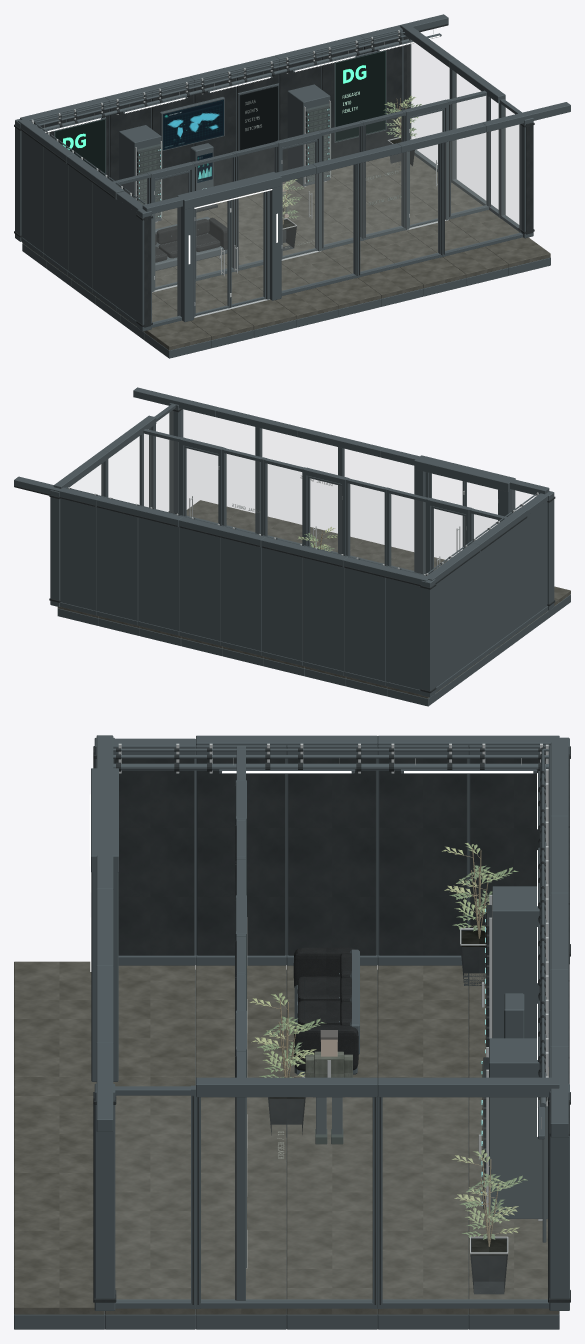
Rendered from CorridorRoom.glb.
3 renders of one model, top to bottom at view 1: azimuth 30°, elevation 25°; view 2: azimuth 150°, elevation 25°; view 3: azimuth 270°, elevation 25°, orthographic. The views are drawn at different scales.
Visible parts, largest first — view 1: EntrancePortal-156_BlackenedSteel__mesh, DGLogoPanel-177_DGIdentity__mesh, WallPanel-128_BlackenedSteel__mesh, WallPanel-130_BlackenedSteel__mesh, WallPanel-132_BlackenedSteel__mesh, WallPanel-134_BlackenedSteel__mesh, WallPanel-126_BlackenedSteel__mesh, WallDisplay-173_Screen_map__screen_display, SloganPanel-175_Slogan__mesh, WallPanel-116_Powdercoat__mesh, ServerRack-176_BlackenedSteel__mesh, WallPanel-124_Powdercoat__mesh (+86 smaller); view 2: WallPanel-110_BlackenedSteel__mesh, WallPanel-118_BlackenedSteel__mesh, WallPanel-122_BlackenedSteel__mesh, WallPanel-116_BlackenedSteel__mesh, WallPanel-120_BlackenedSteel__mesh, WallPanel-112_BlackenedSteel__mesh, WallPanel-114_BlackenedSteel__mesh, WallPanel-124_BlackenedSteel__mesh, WallPanel-108_BlackenedSteel__mesh, EntrancePortal-156_BlackenedSteel__mesh, WallPanel-132_BlackenedSteel__mesh, WallPanel-134_BlackenedSteel__mesh (+38 smaller); view 3: WallPanel-128_Powdercoat__mesh, WallPanel-130_Powdercoat__mesh, WallPanel-134_Powdercoat__mesh, WallPanel-132_Powdercoat__mesh, WallPanel-126_Powdercoat__mesh, ServerRack-176_BlackenedSteel__mesh, ServerRack-172_BlackenedSteel__mesh, Sofa-187_BlackLeather__mesh, EntrancePortal-156_BlackenedSteel__mesh, StructuralColumn-139_BlackenedSteel__mesh, FacadeHeader-169_BlackenedSteel__mesh, FacadeHeader-168_BlackenedSteel__mesh (+87 smaller).
Boxes of the visible parts, x1=… form: EntrancePortal-156_BlackenedSteel__mesh: x1=177, y1=172, x2=281, y2=321; DGLogoPanel-177_DGIdentity__mesh: x1=335, y1=50, x2=385, y2=141; WallPanel-128_BlackenedSteel__mesh: x1=43, y1=147, x2=68, y2=275; WallPanel-130_BlackenedSteel__mesh: x1=67, y1=165, x2=92, y2=292; WallPanel-132_BlackenedSteel__mesh: x1=92, y1=183, x2=124, y2=310; WallPanel-134_BlackenedSteel__mesh: x1=116, y1=191, x2=143, y2=325; WallPanel-126_BlackenedSteel__mesh: x1=21, y1=131, x2=43, y2=257; WallDisplay-173_Screen_map__screen_display: x1=163, y1=99, x2=223, y2=150; SloganPanel-175_Slogan__mesh: x1=239, y1=86, x2=278, y2=150; WallPanel-116_Powdercoat__mesh: x1=194, y1=78, x2=236, y2=186; ServerRack-176_BlackenedSteel__mesh: x1=287, y1=84, x2=330, y2=186; WallPanel-124_Powdercoat__mesh: x1=364, y1=38, x2=402, y2=150; WallPanel-110_BlackenedSteel__mesh: x1=344, y1=568, x2=385, y2=685; WallPanel-118_BlackenedSteel__mesh: x1=179, y1=527, x2=220, y2=645; WallPanel-122_BlackenedSteel__mesh: x1=96, y1=507, x2=138, y2=625; WallPanel-116_BlackenedSteel__mesh: x1=220, y1=538, x2=261, y2=655; WallPanel-120_BlackenedSteel__mesh: x1=138, y1=517, x2=179, y2=635; WallPanel-112_BlackenedSteel__mesh: x1=303, y1=558, x2=344, y2=675; WallPanel-114_BlackenedSteel__mesh: x1=261, y1=548, x2=302, y2=665; WallPanel-124_BlackenedSteel__mesh: x1=60, y1=498, x2=96, y2=615; WallPanel-108_BlackenedSteel__mesh: x1=385, y1=578, x2=421, y2=694; EntrancePortal-156_BlackenedSteel__mesh: x1=414, y1=455, x2=515, y2=574; WallPanel-132_BlackenedSteel__mesh: x1=502, y1=519, x2=526, y2=642; WallPanel-134_BlackenedSteel__mesh: x1=520, y1=493, x2=549, y2=625; WallPanel-128_Powdercoat__mesh: x1=379, y1=758, x2=467, y2=955; WallPanel-130_Powdercoat__mesh: x1=288, y1=758, x2=376, y2=955; WallPanel-134_Powdercoat__mesh: x1=114, y1=758, x2=194, y2=955; WallPanel-132_Powdercoat__mesh: x1=197, y1=758, x2=285, y2=955; WallPanel-126_Powdercoat__mesh: x1=470, y1=758, x2=548, y2=927; ServerRack-176_BlackenedSteel__mesh: x1=489, y1=1038, x2=547, y2=1218; ServerRack-172_BlackenedSteel__mesh: x1=492, y1=886, x2=548, y2=1066; Sofa-187_BlackLeather__mesh: x1=293, y1=947, x2=358, y2=1070; EntrancePortal-156_BlackenedSteel__mesh: x1=91, y1=768, x2=118, y2=1081; StructuralColumn-139_BlackenedSteel__mesh: x1=94, y1=1083, x2=115, y2=1310; FacadeHeader-169_BlackenedSteel__mesh: x1=196, y1=1077, x2=377, y2=1097; FacadeHeader-168_BlackenedSteel__mesh: x1=377, y1=1077, x2=559, y2=1097.
Bounding box in the file's own units: 12.15 × 3.63 × 7.35.
Materials: 26 (11 with a texture image).
